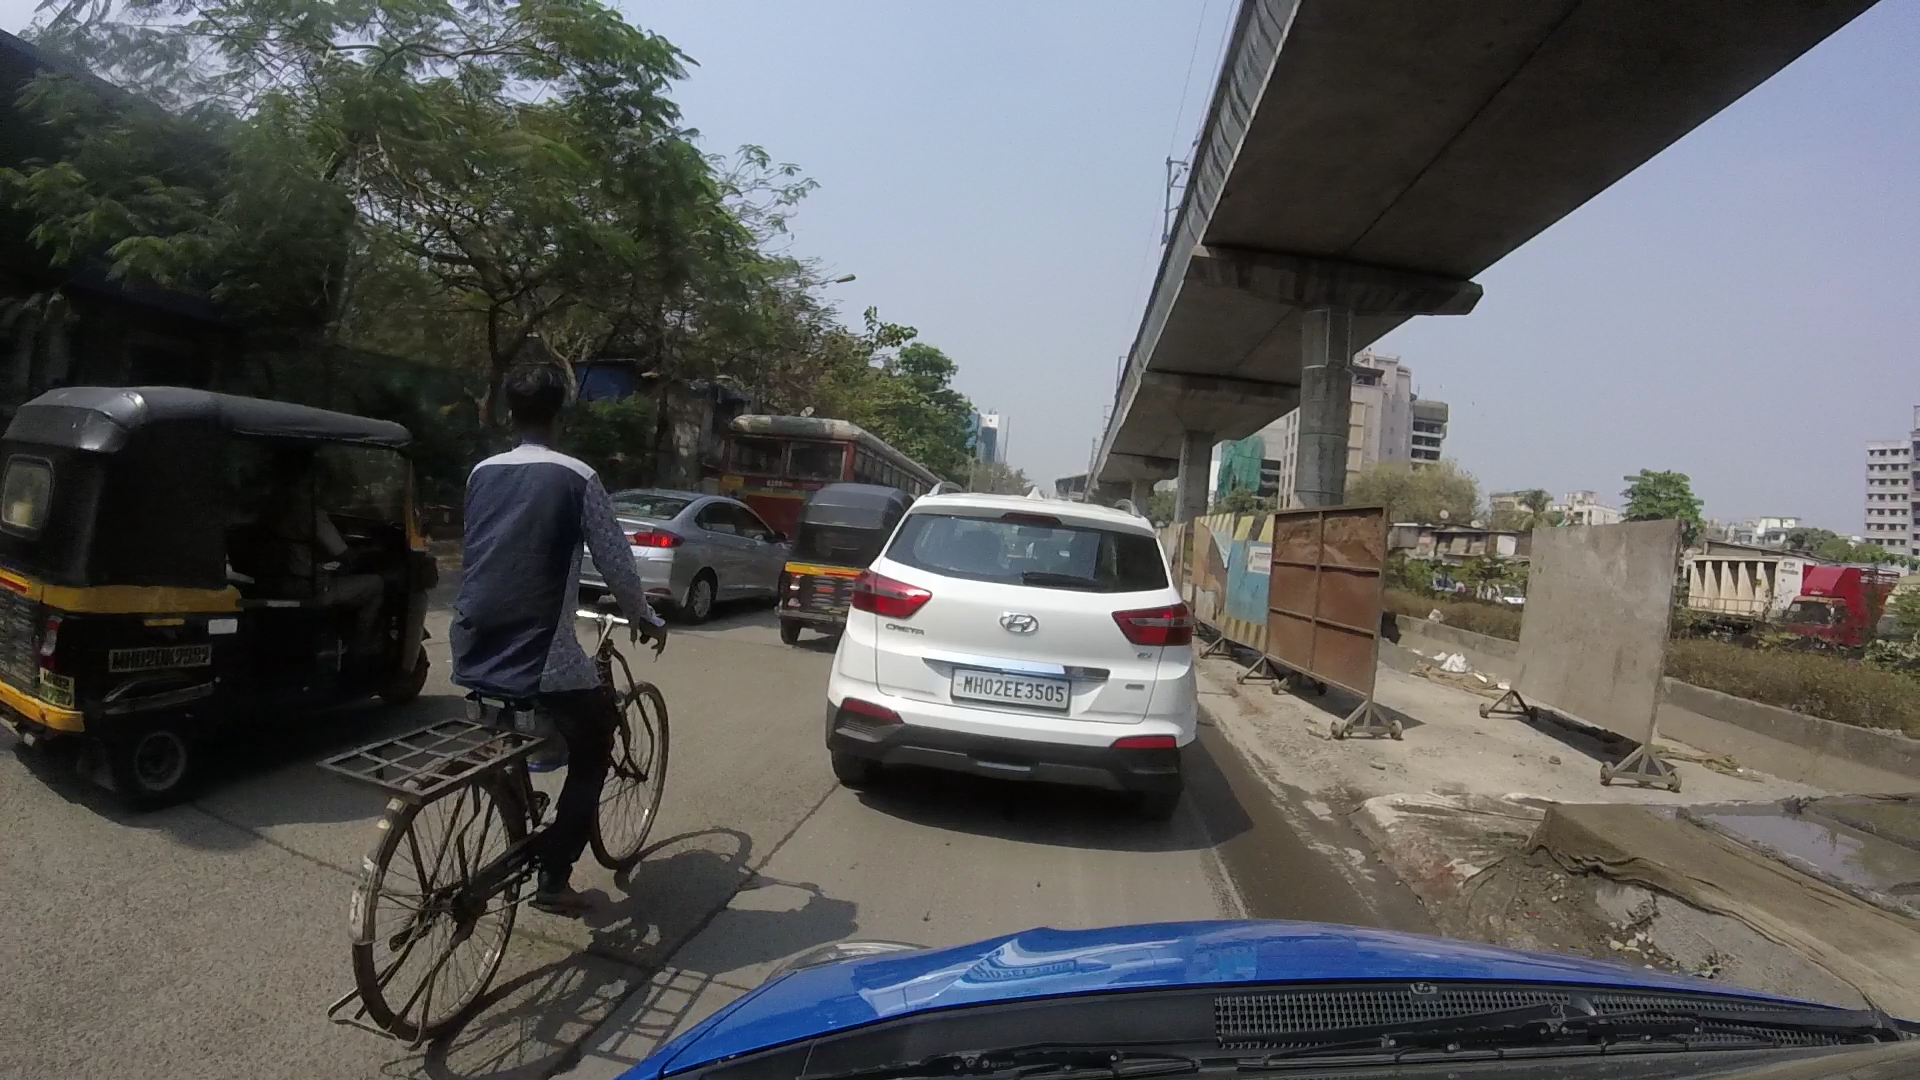car: (807, 477, 1201, 816), (564, 454, 781, 645)
rickshaw: (7, 351, 448, 822), (767, 458, 901, 647)
